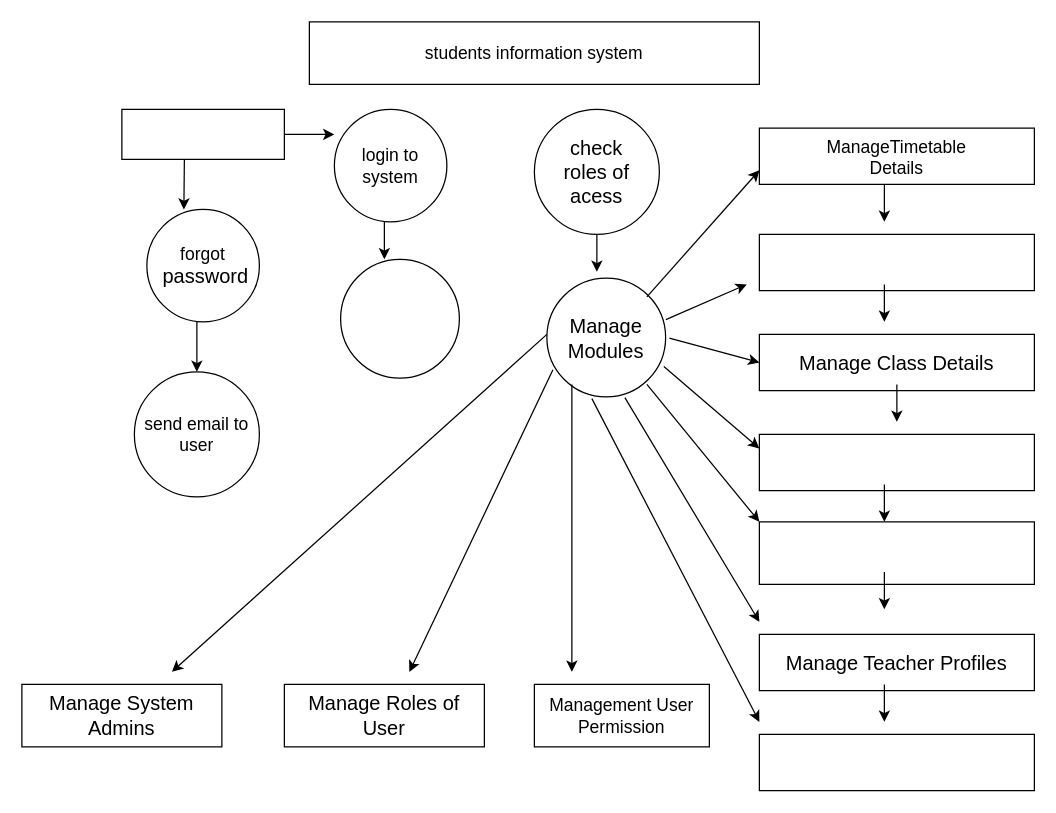
This 1056x813 diagram has some shape labels left out. Here are the shapes that lost their labels. From the top down, the centre of each, then its label:
point (202, 133): Adimni
point (896, 262): Manage Attedence Details
point (399, 318): check
point (896, 462): Manage Students Details
point (896, 552): Manage Fees Details
point (896, 762): Manage Report
